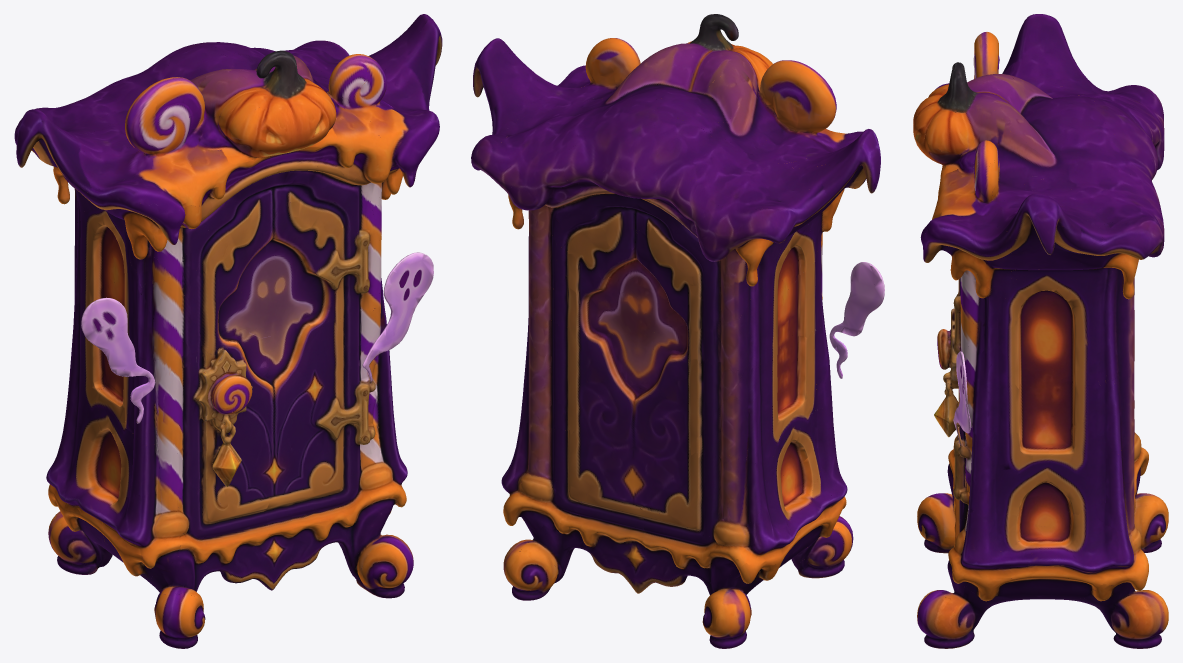
File: Chaseween_Haunted_Locker.glb
3 renders of one model, left to right at view 1: azimuth 30°, elevation 25°; view 2: azimuth 150°, elevation 25°; view 3: azimuth 270°, elevation 25°, orthographic. The views are drawn at different scales.
Parts seen in each view (by area): view 1: Mesh_0; view 2: Mesh_0; view 3: Mesh_0.
Part boxes in pixels (x1,y1,x2,y2): Mesh_0: (14, 14, 442, 648); Mesh_0: (471, 14, 884, 648); Mesh_0: (913, 14, 1168, 648).
Bounding box in the file's own units: 1.5 × 1.9 × 0.8284.
Materials: 1 (1 with a texture image).
